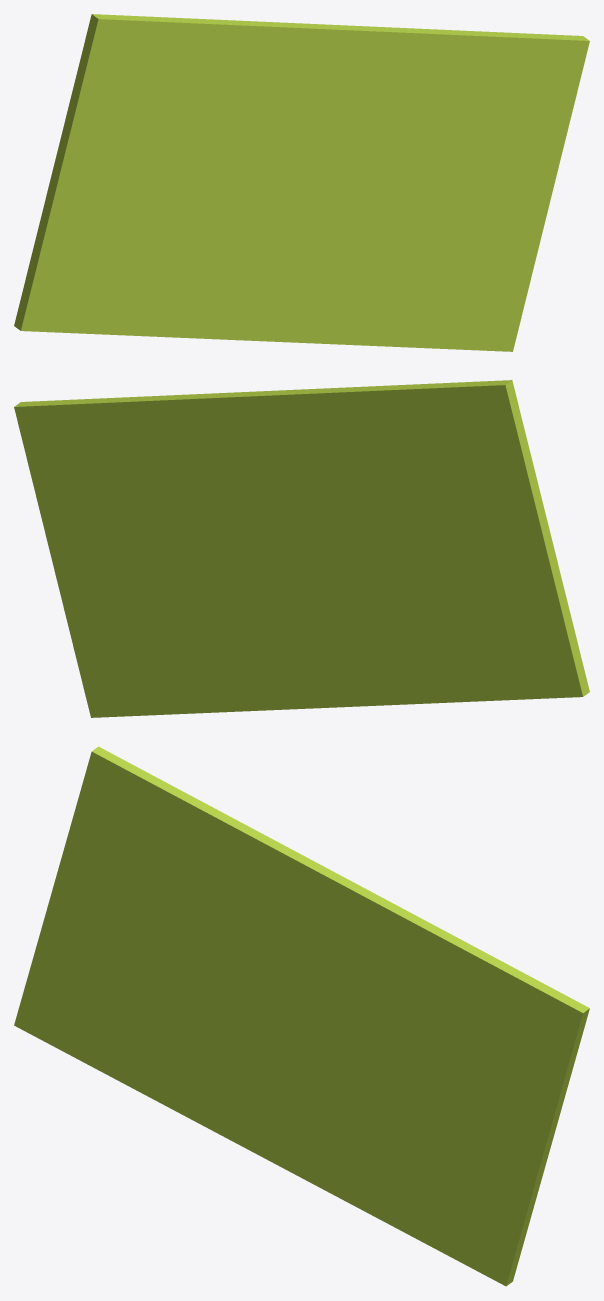
3 views of the same model, one above another, from view 1: azimuth 30°, elevation 25°; view 2: azimuth 150°, elevation 25°; view 3: azimuth 330°, elevation 25° (orthographic).
Parts seen in each view (by area): view 1: osm-way27917482-F-1; view 2: osm-way27917482-F-1; view 3: osm-way27917482-F-1.
Boxes of the visible parts, x1=… form: osm-way27917482-F-1: x1=14, y1=14, x2=589, y2=351; osm-way27917482-F-1: x1=14, y1=380, x2=589, y2=717; osm-way27917482-F-1: x1=14, y1=746, x2=589, y2=1286.
Size of the model in its own units: 7.19 by 5.24 by 0.15.
